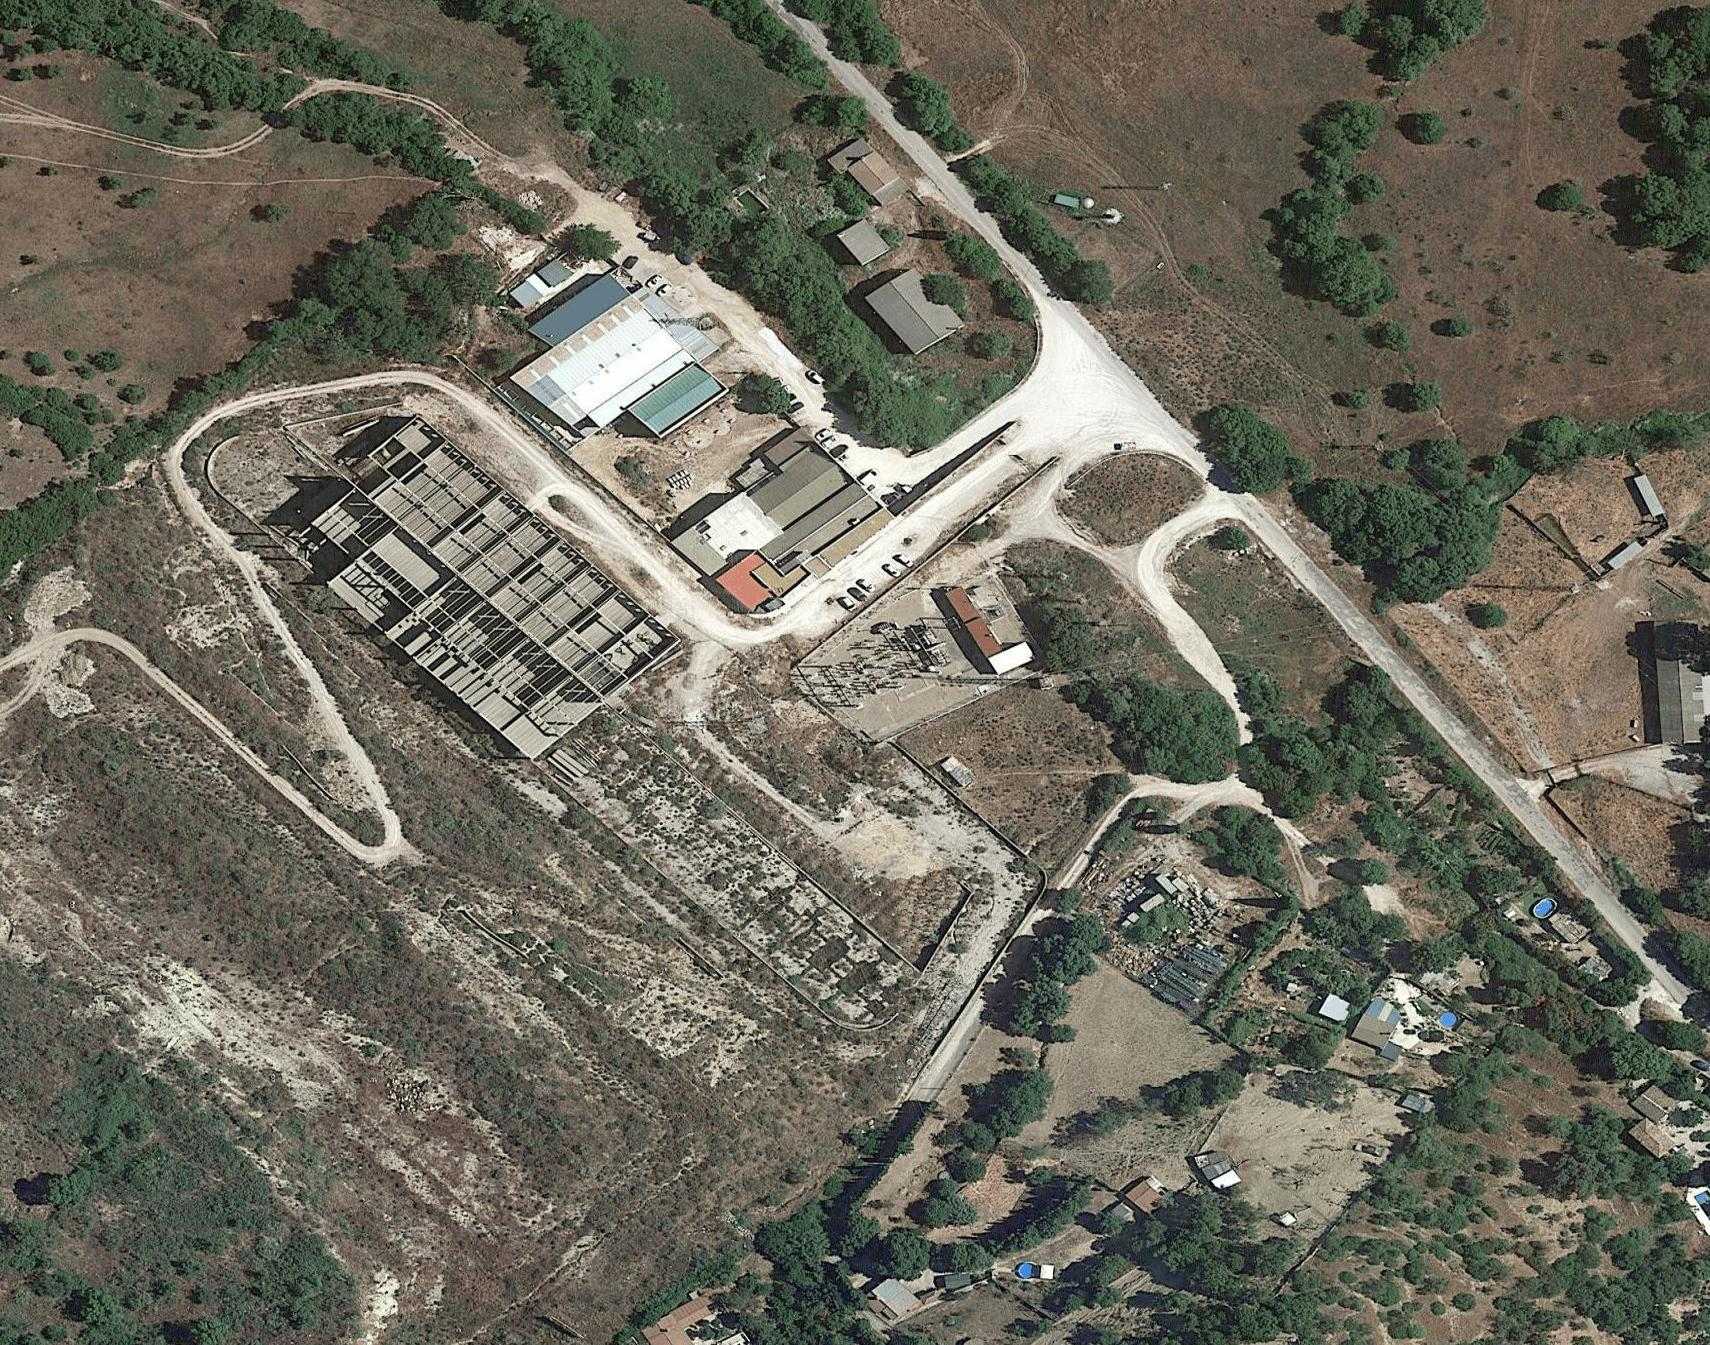substation: (808, 619, 956, 711)
